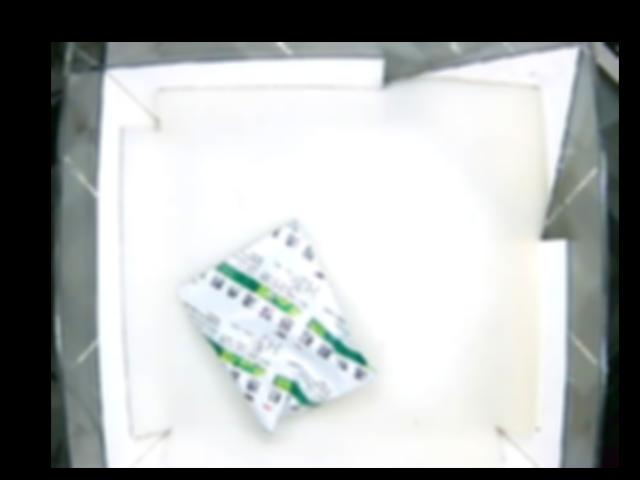Medicine: (177, 221, 372, 433)
